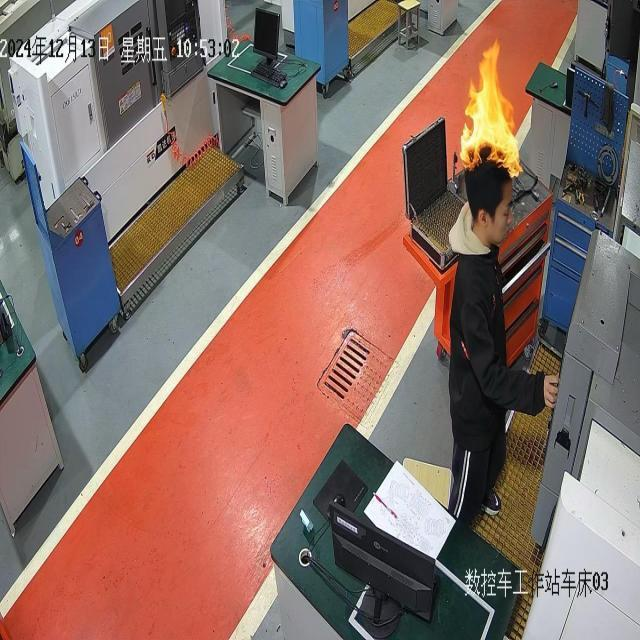smoke: (456, 42, 522, 181)
